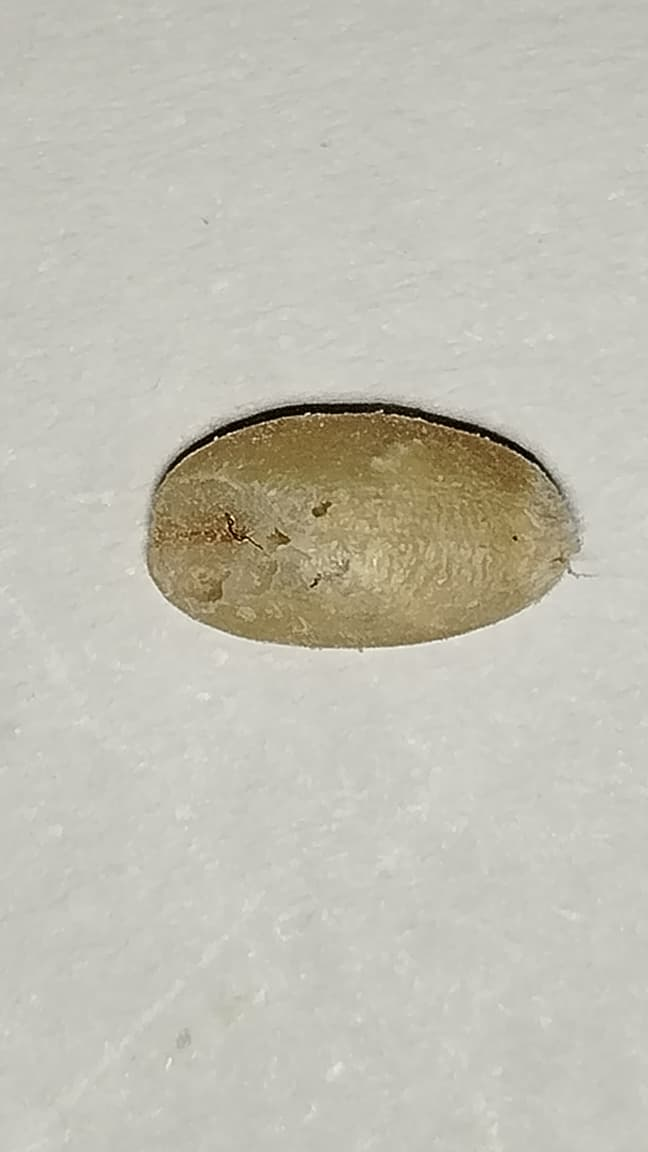damage: (149, 403, 576, 651)
insectdamage: (151, 461, 350, 621)
